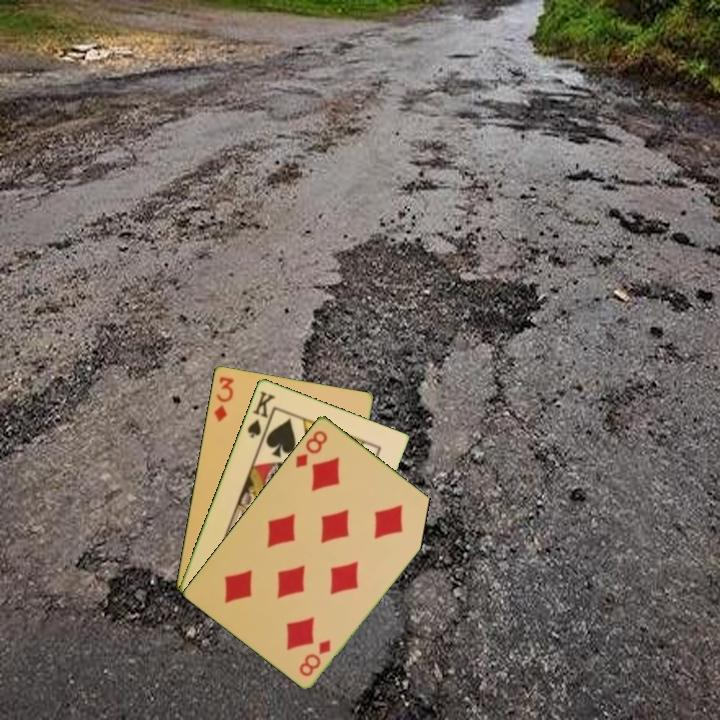3d: (210, 373, 237, 424)
8d: (295, 636, 334, 679), (292, 426, 330, 470)
Ks: (244, 387, 278, 443)
